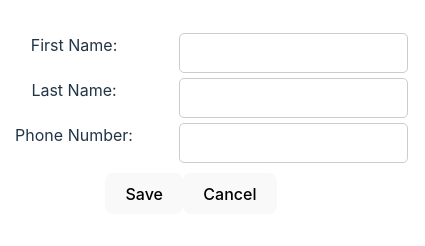
Test: CreateUser › displays error message on unsuccessful save
Type "John" into the field labelled "First Name:" at {"x": 294, "y": 53}, box [179, 33, 408, 73]
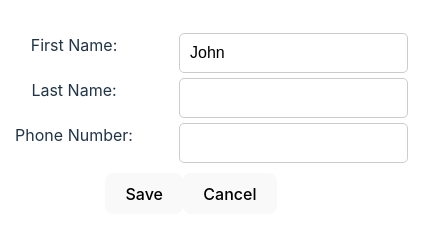
Type "Doe" into the field labelled "Last Name:" at {"x": 294, "y": 98}, box [179, 78, 408, 118]
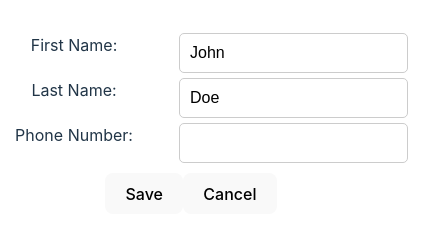
Type "1234567890" into the field labelled "Phone Number:" at {"x": 294, "y": 143}, box [179, 123, 408, 163]
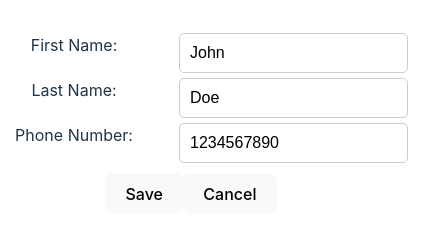
Click the button "Save" at {"x": 144, "y": 194}, box [105, 173, 183, 214]
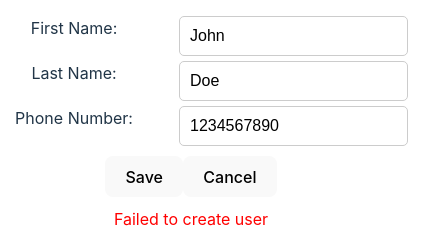
Expected: the text "Failed to create user" is shown, [114, 209, 268, 229]
